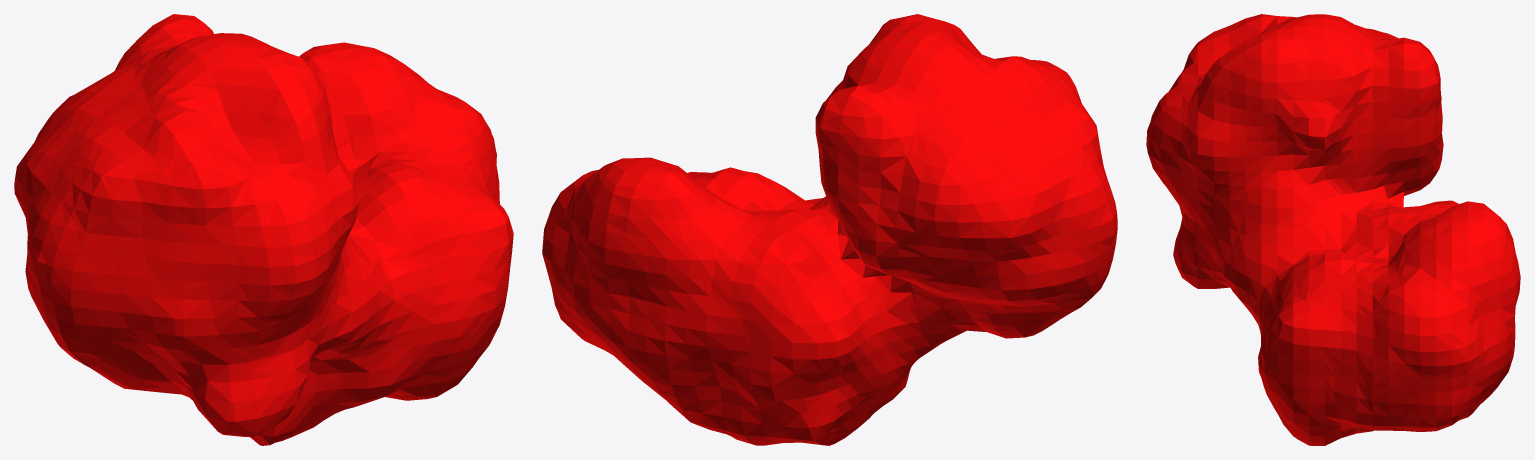
The model's file is pgk_coarse.dae.
3 renders of one model, left to right at view 1: azimuth 30°, elevation 25°; view 2: azimuth 150°, elevation 25°; view 3: azimuth 270°, elevation 25°, orthographic. The views are drawn at different scales.
Visible parts, largest first — view 1: pgk; view 2: pgk; view 3: pgk.
Part boxes in pixels (bbox=[...]): pgk: bbox=[14, 14, 513, 445]; pgk: bbox=[542, 14, 1117, 445]; pgk: bbox=[1146, 14, 1520, 445].
Size of the model in its own units: 74.7 by 58.25 by 54.32.
